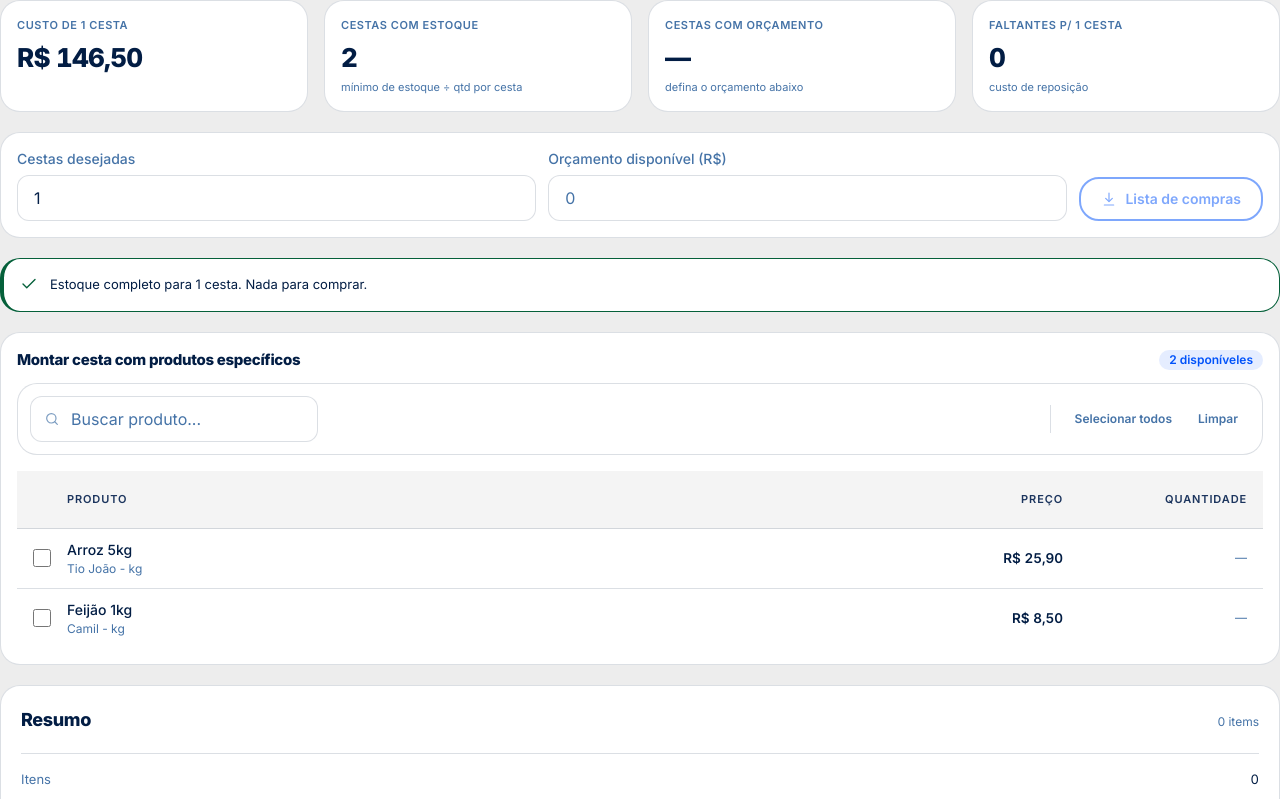
Test: SimuladorClient › PLANNER › orçamento cobre X cestas: exibe no card
Type "1000" into the field with id "orcamento" at (808, 198), box [548,175,1067,221]
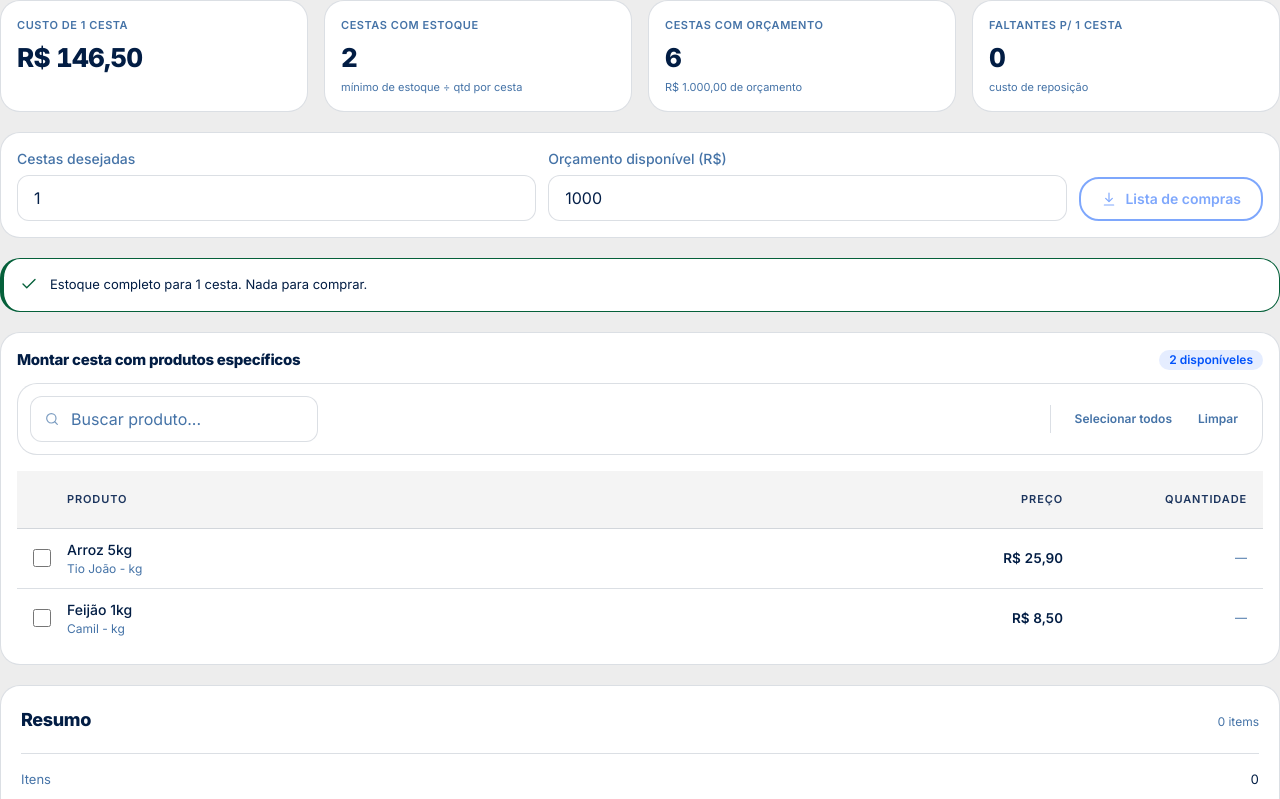
Result: the text "R$ 1.000,00 de orçamento" is shown at [665,80,802,94]
